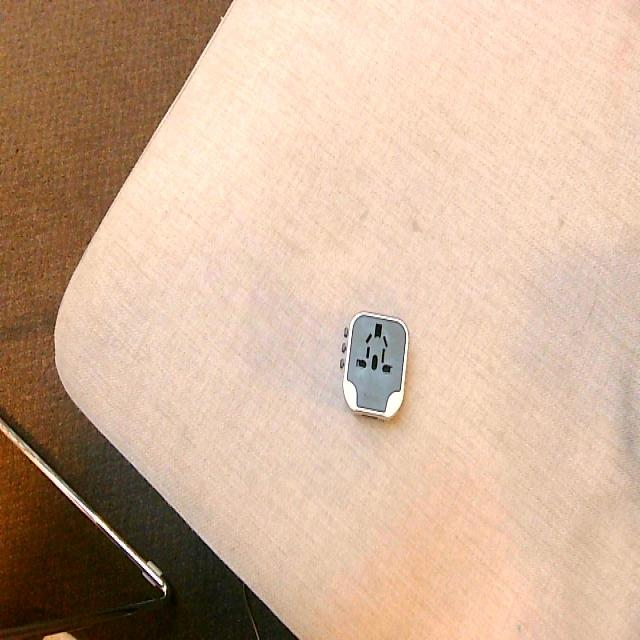adapter: (339, 309, 409, 420)
